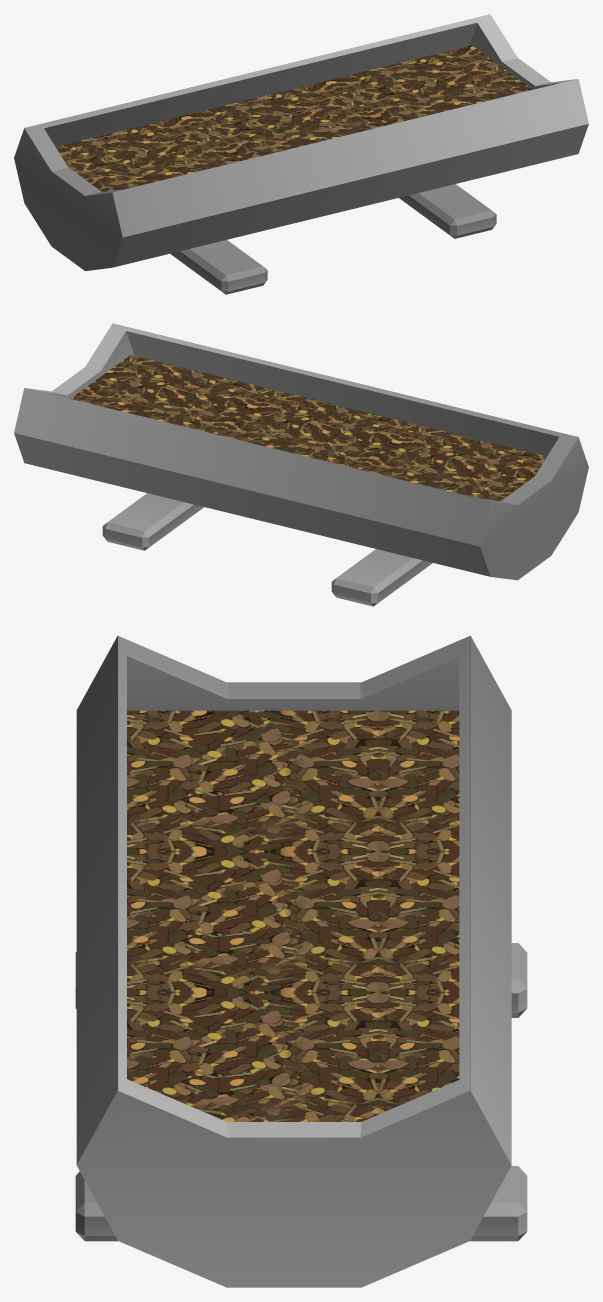
Rendered from 3d-trog-03.fbx.
The picture shows the model from 3 angles, top to bottom: view 1: azimuth 30°, elevation 25°; view 2: azimuth 150°, elevation 25°; view 3: azimuth 270°, elevation 25°; orthographic projection. The views are drawn at different scales.
Visible parts, largest first — view 1: polySurface10, pPlane2, polySurface6, polySurface7; view 2: polySurface10, pPlane2, polySurface6, polySurface7; view 3: pPlane2, polySurface10, polySurface6, polySurface7.
Part boxes in pixels (<box>): polySurface10: <box>14,14,588,271</box>; pPlane2: <box>56,45,532,191</box>; polySurface6: <box>399,184,496,238</box>; polySurface7: <box>170,240,267,294</box>; polySurface10: <box>14,323,588,580</box>; pPlane2: <box>71,355,546,500</box>; polySurface6: <box>102,493,203,550</box>; polySurface7: <box>331,549,432,606</box>; pPlane2: <box>127,710,459,1121</box>; polySurface10: <box>76,635,511,1287</box>; polySurface6: <box>75,1166,527,1241</box>; polySurface7: <box>75,943,527,1017</box>.
Size of the model in its own units: 5.01 by 1.25 by 2.1.
3 materials, 3 textured.
